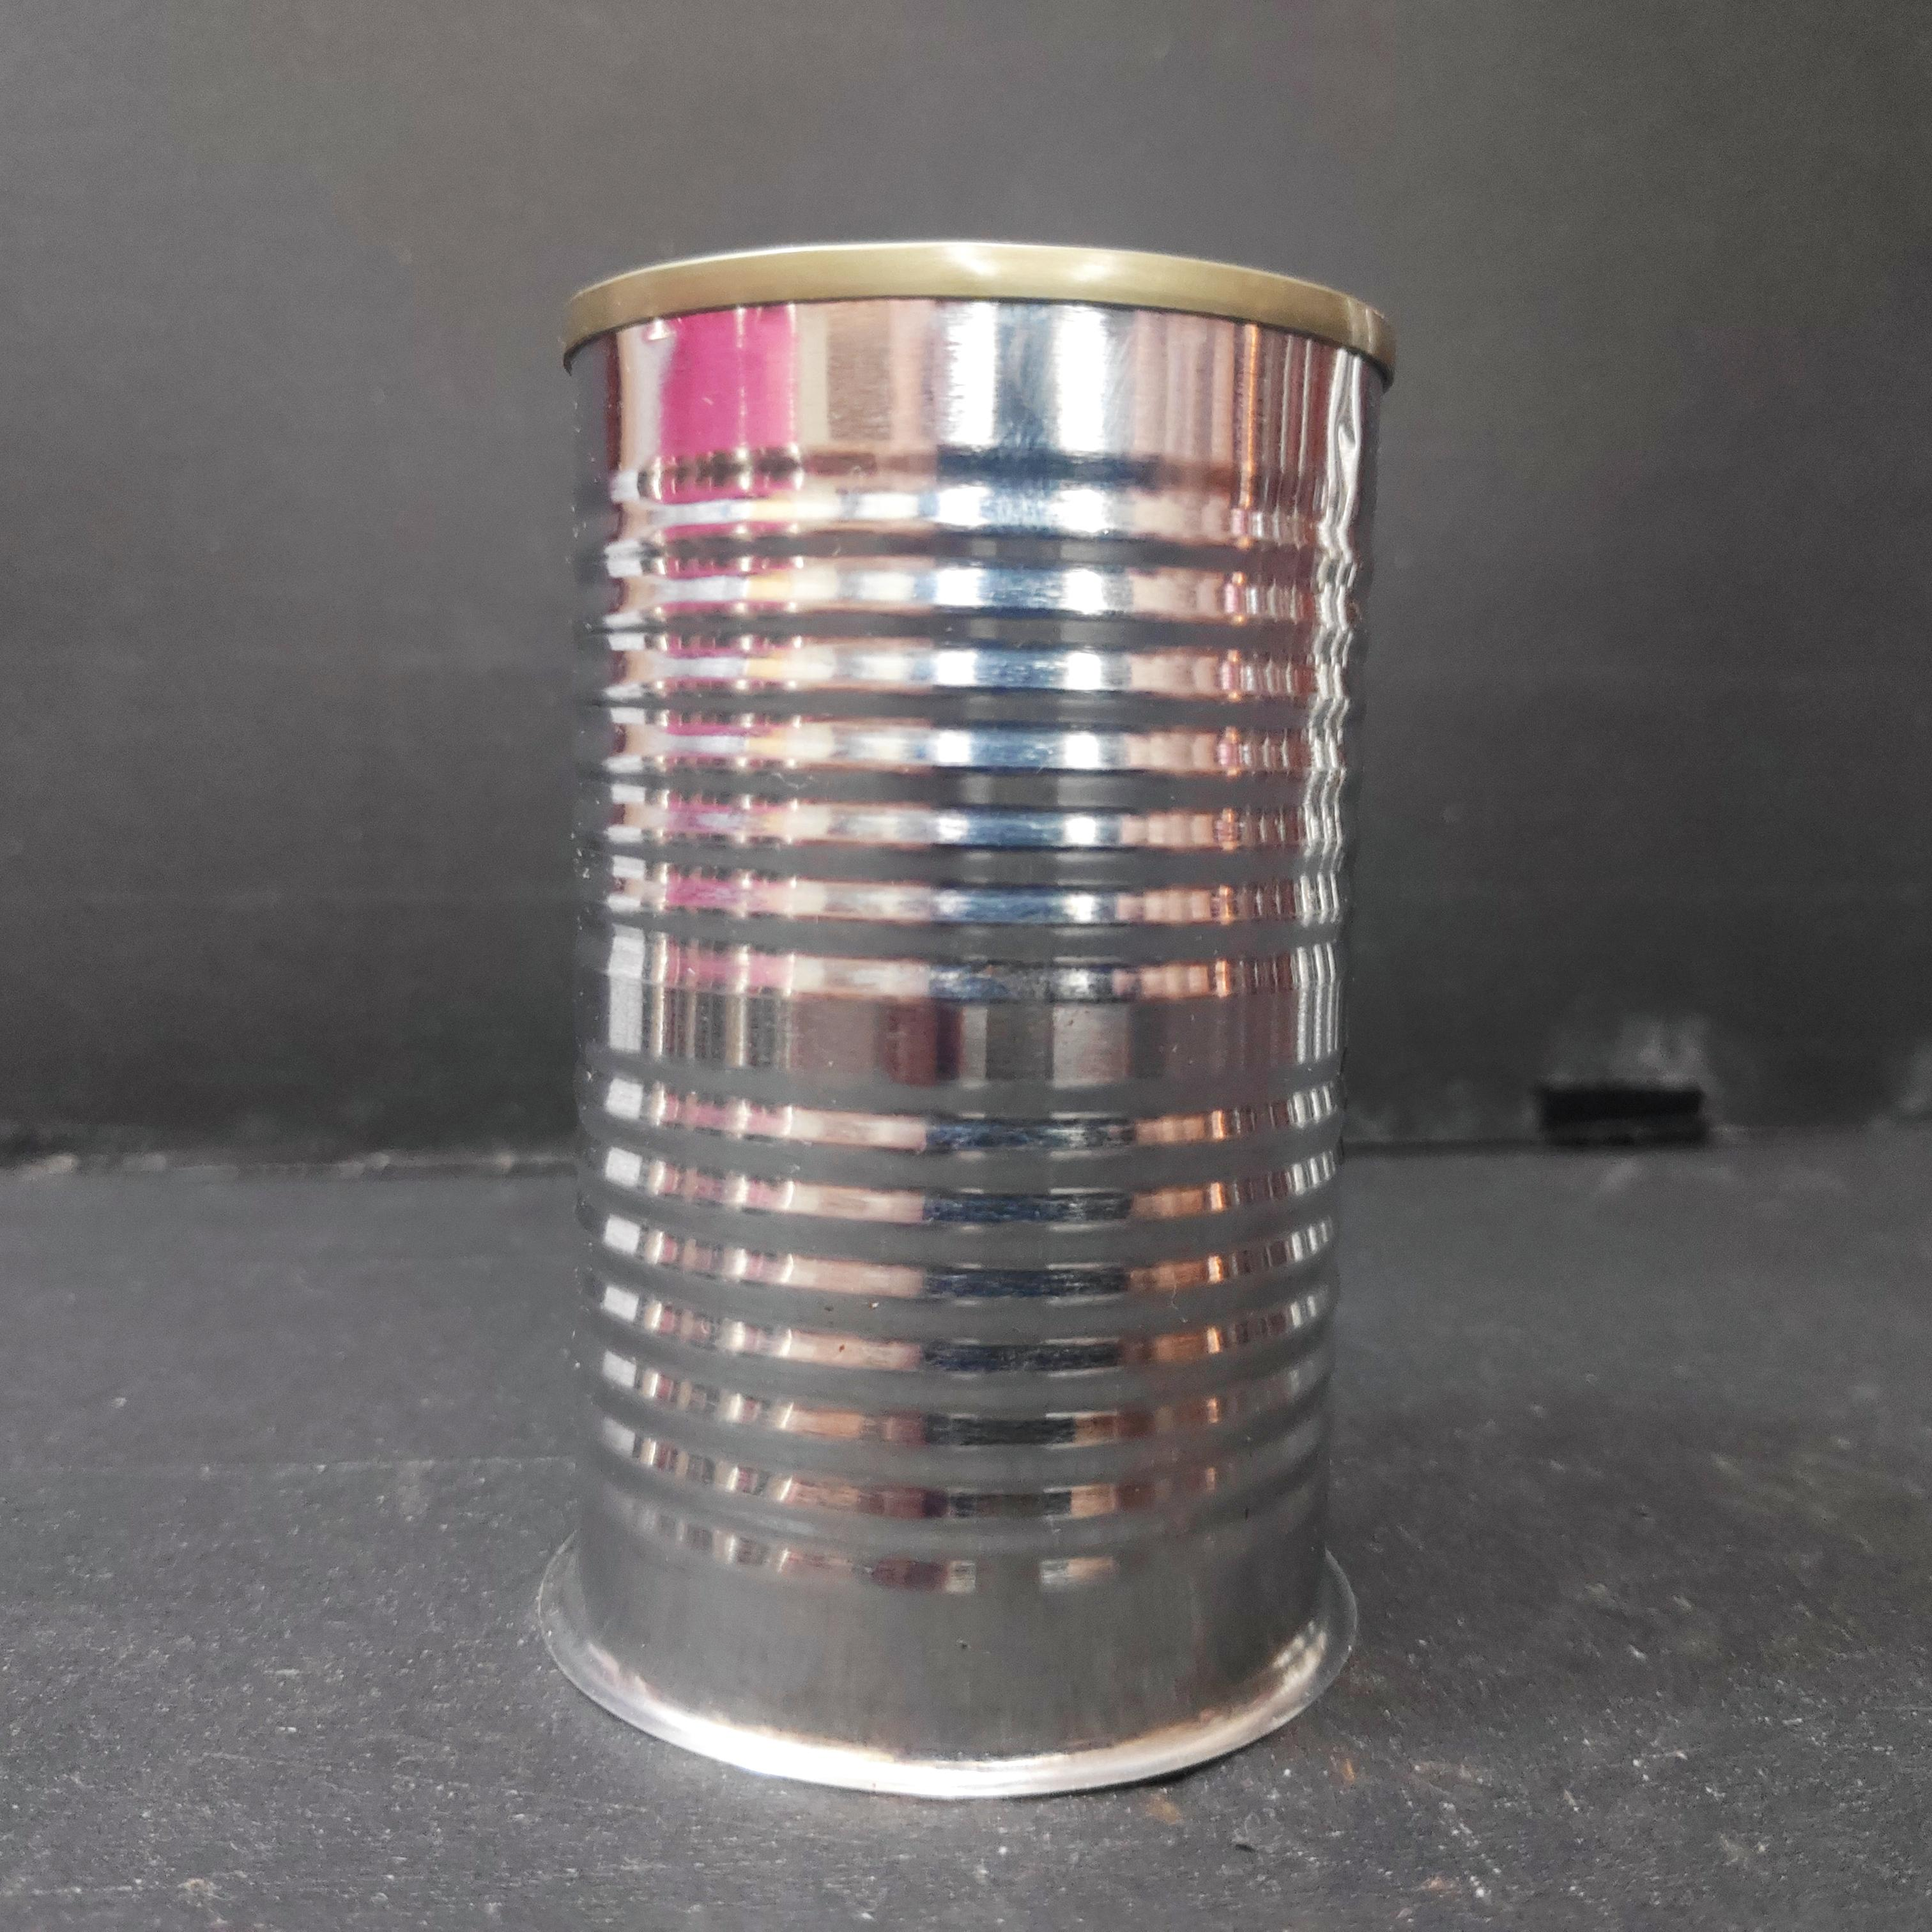No defect: (535, 236, 1402, 1804)
